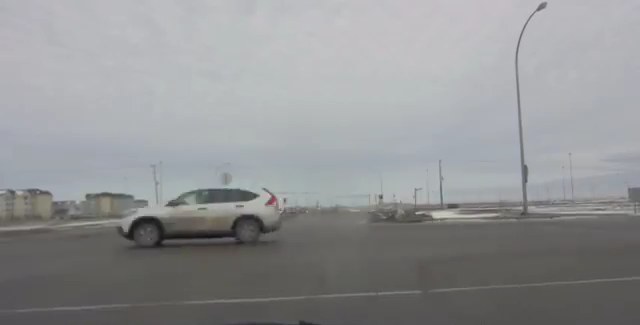car: (115, 184, 280, 246)
